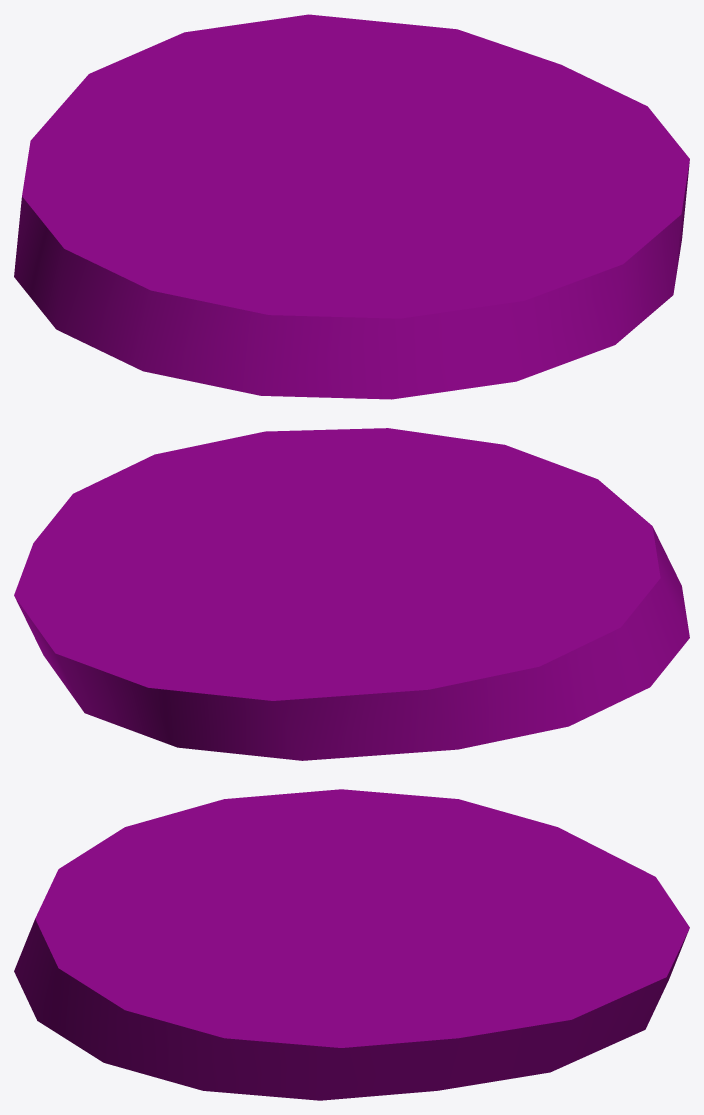
File: Veg3.FBX
3 renders of one model, top to bottom at view 1: azimuth 30°, elevation 25°; view 2: azimuth 150°, elevation 25°; view 3: azimuth 270°, elevation 25°, orthographic. The views are drawn at different scales.
Visible parts, largest first — view 1: Veg_3; view 2: Veg_3; view 3: Veg_3.
Boxes of the visible parts, <box> form: Veg_3: <box>14,14,689,399</box>; Veg_3: <box>14,428,689,760</box>; Veg_3: <box>14,789,689,1100</box>.
Size of the model in its own units: 9.96 by 1.06 by 10.63.
